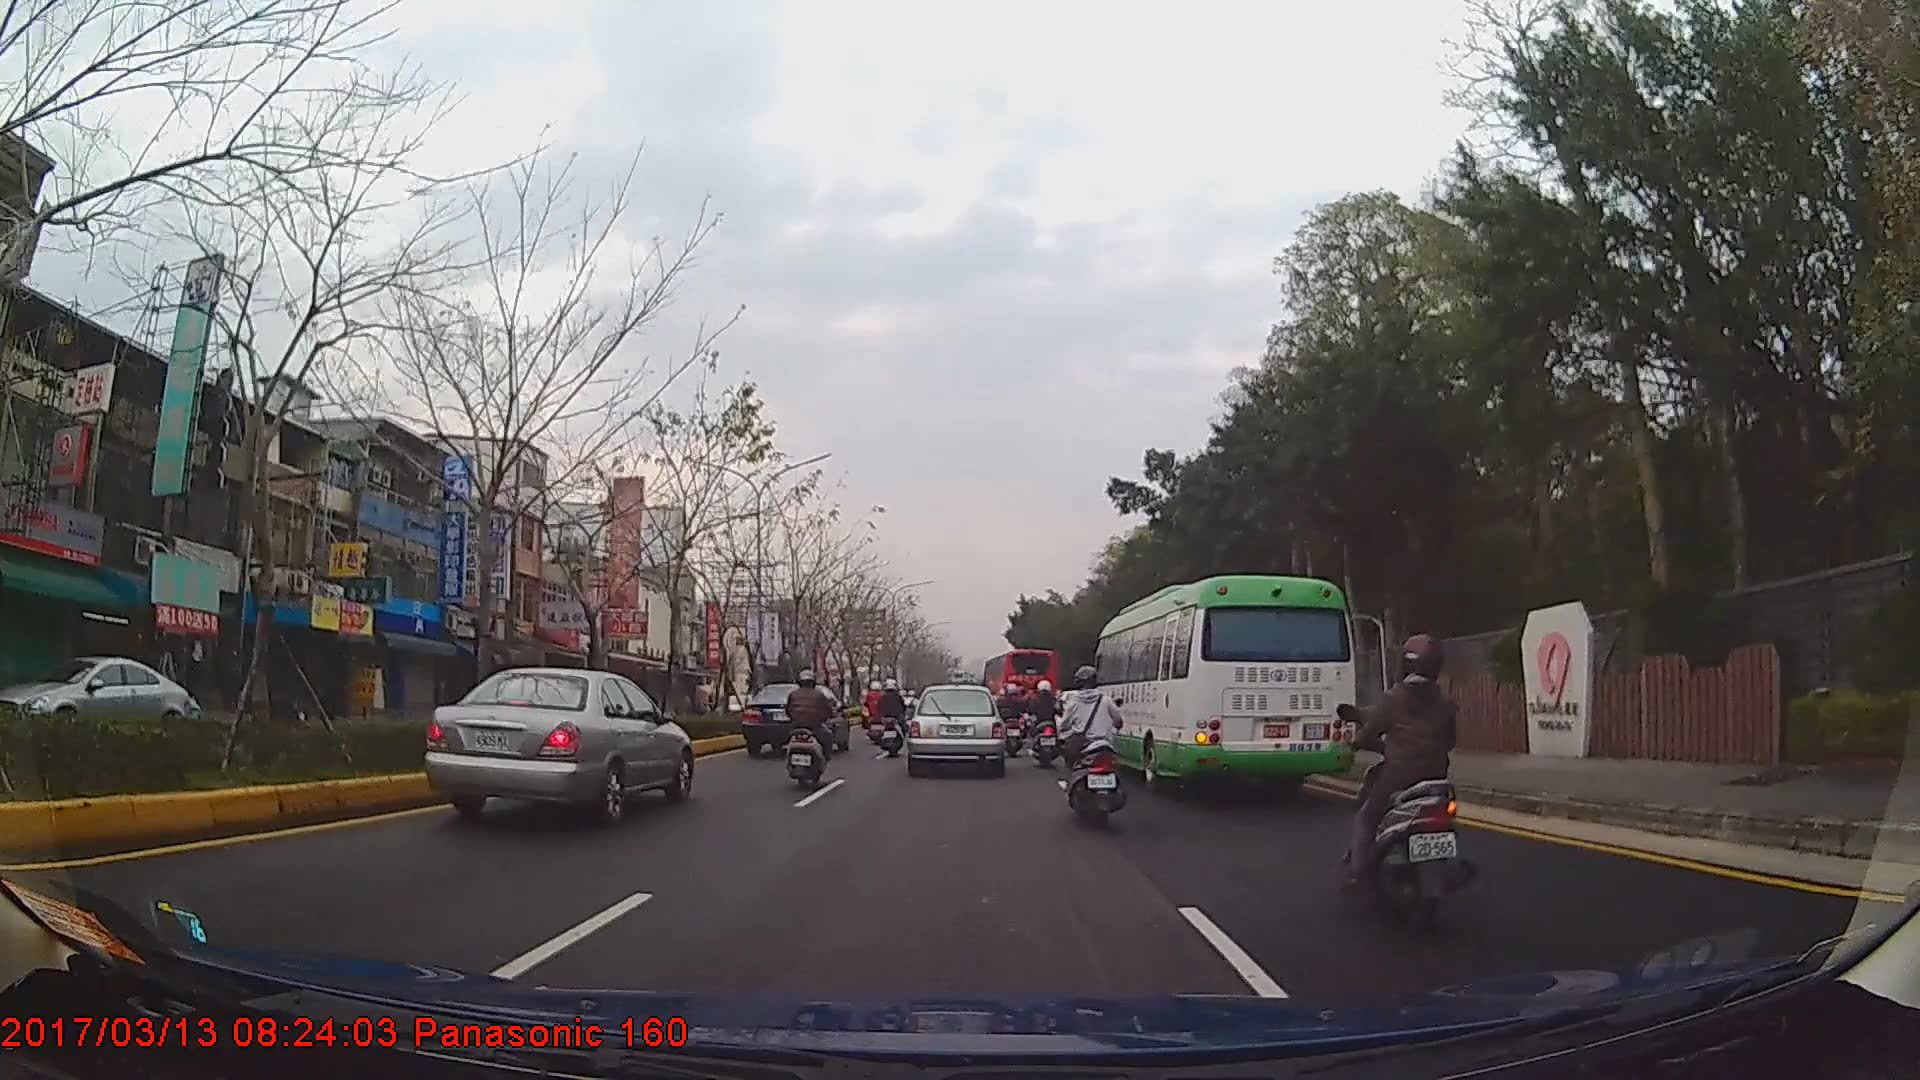rider: (1331, 632, 1466, 919), (1059, 666, 1124, 831), (784, 671, 839, 792), (1026, 679, 1066, 767), (875, 680, 908, 759), (995, 682, 1028, 758), (865, 682, 888, 745), (903, 692, 923, 740)
vehicle: (1085, 573, 1358, 790), (421, 664, 695, 829), (0, 649, 199, 738), (909, 683, 1005, 777), (742, 682, 852, 758), (983, 646, 1057, 730)
